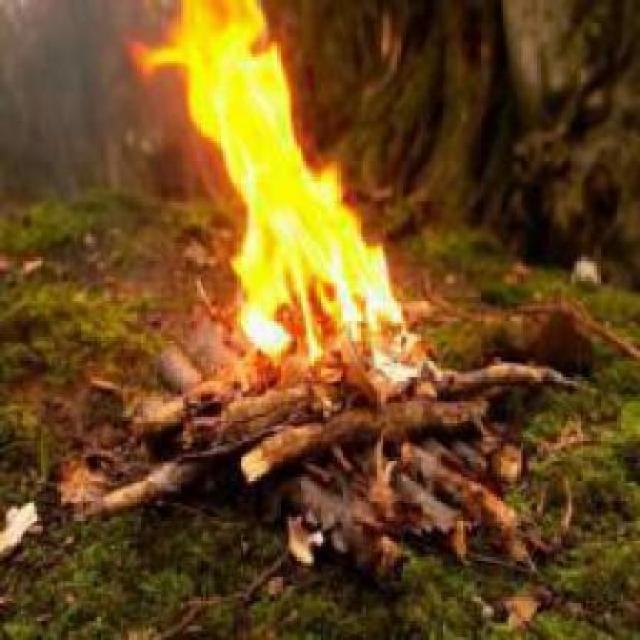fire: (133, 0, 412, 353)
